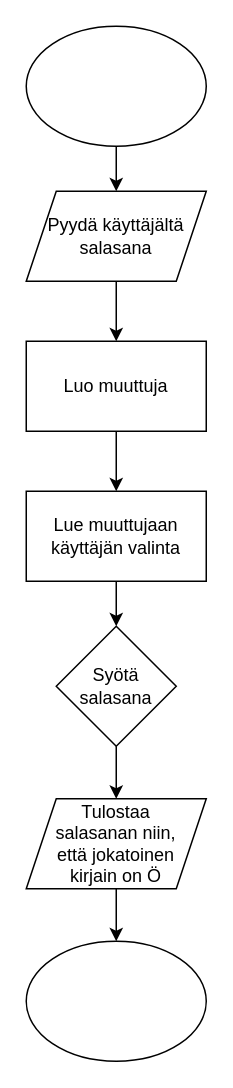
Image size: 233x1088. Some labels were removed from this diagram. The box of each missing label's shape, as (x1, y1, x2, y2) in pixels:
Aloitus HTML-sivu: (25, 25, 206, 146)
The End: (25, 940, 206, 1061)
